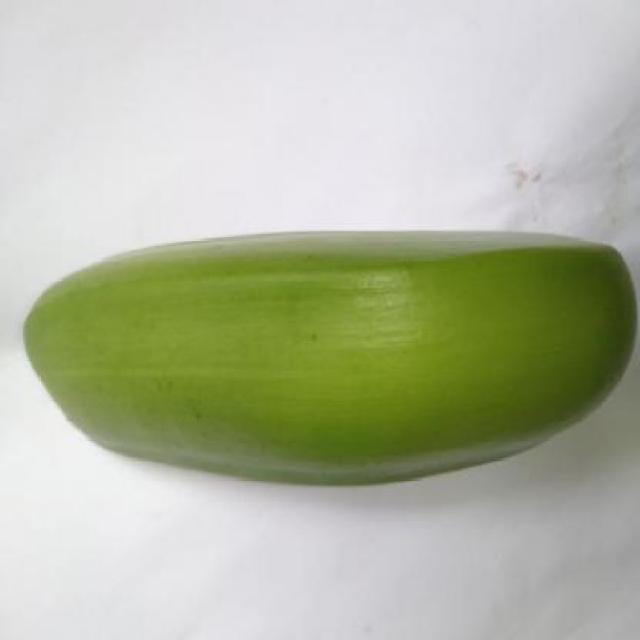raw: (25, 43, 639, 525)
